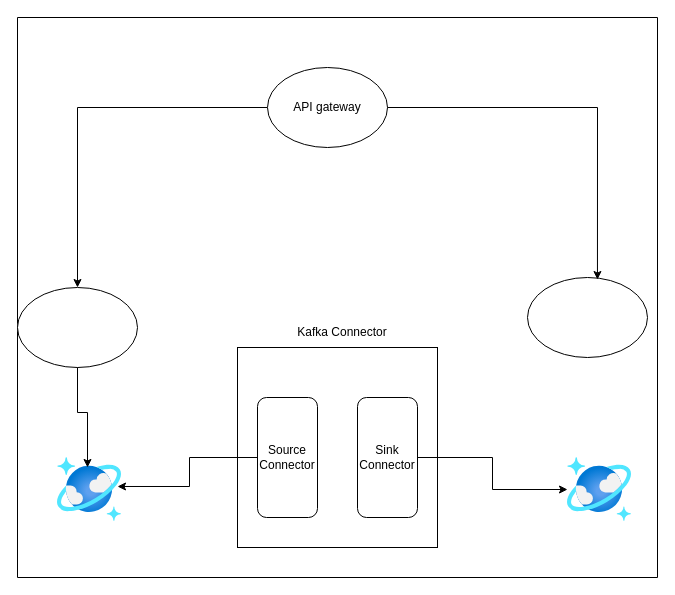
This 675x595 diagram has some shape labels left out. The shapes that lost their labels are listed below. From the top down, each one's box as (x1, y1, x2, y2) in pixels, then its label:
(16, 286, 138, 368): Command mS for uploading file
(526, 276, 648, 358): Query mS for view the file
